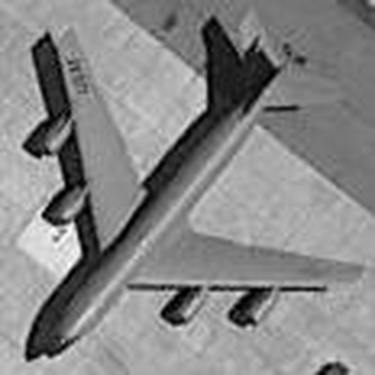airplane: (17, 10, 369, 366)
